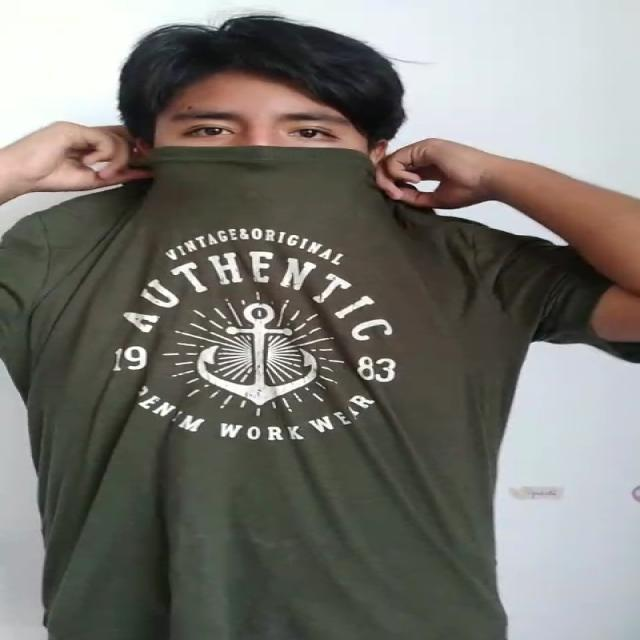8_ropa_rostro: (0, 134, 478, 256)
